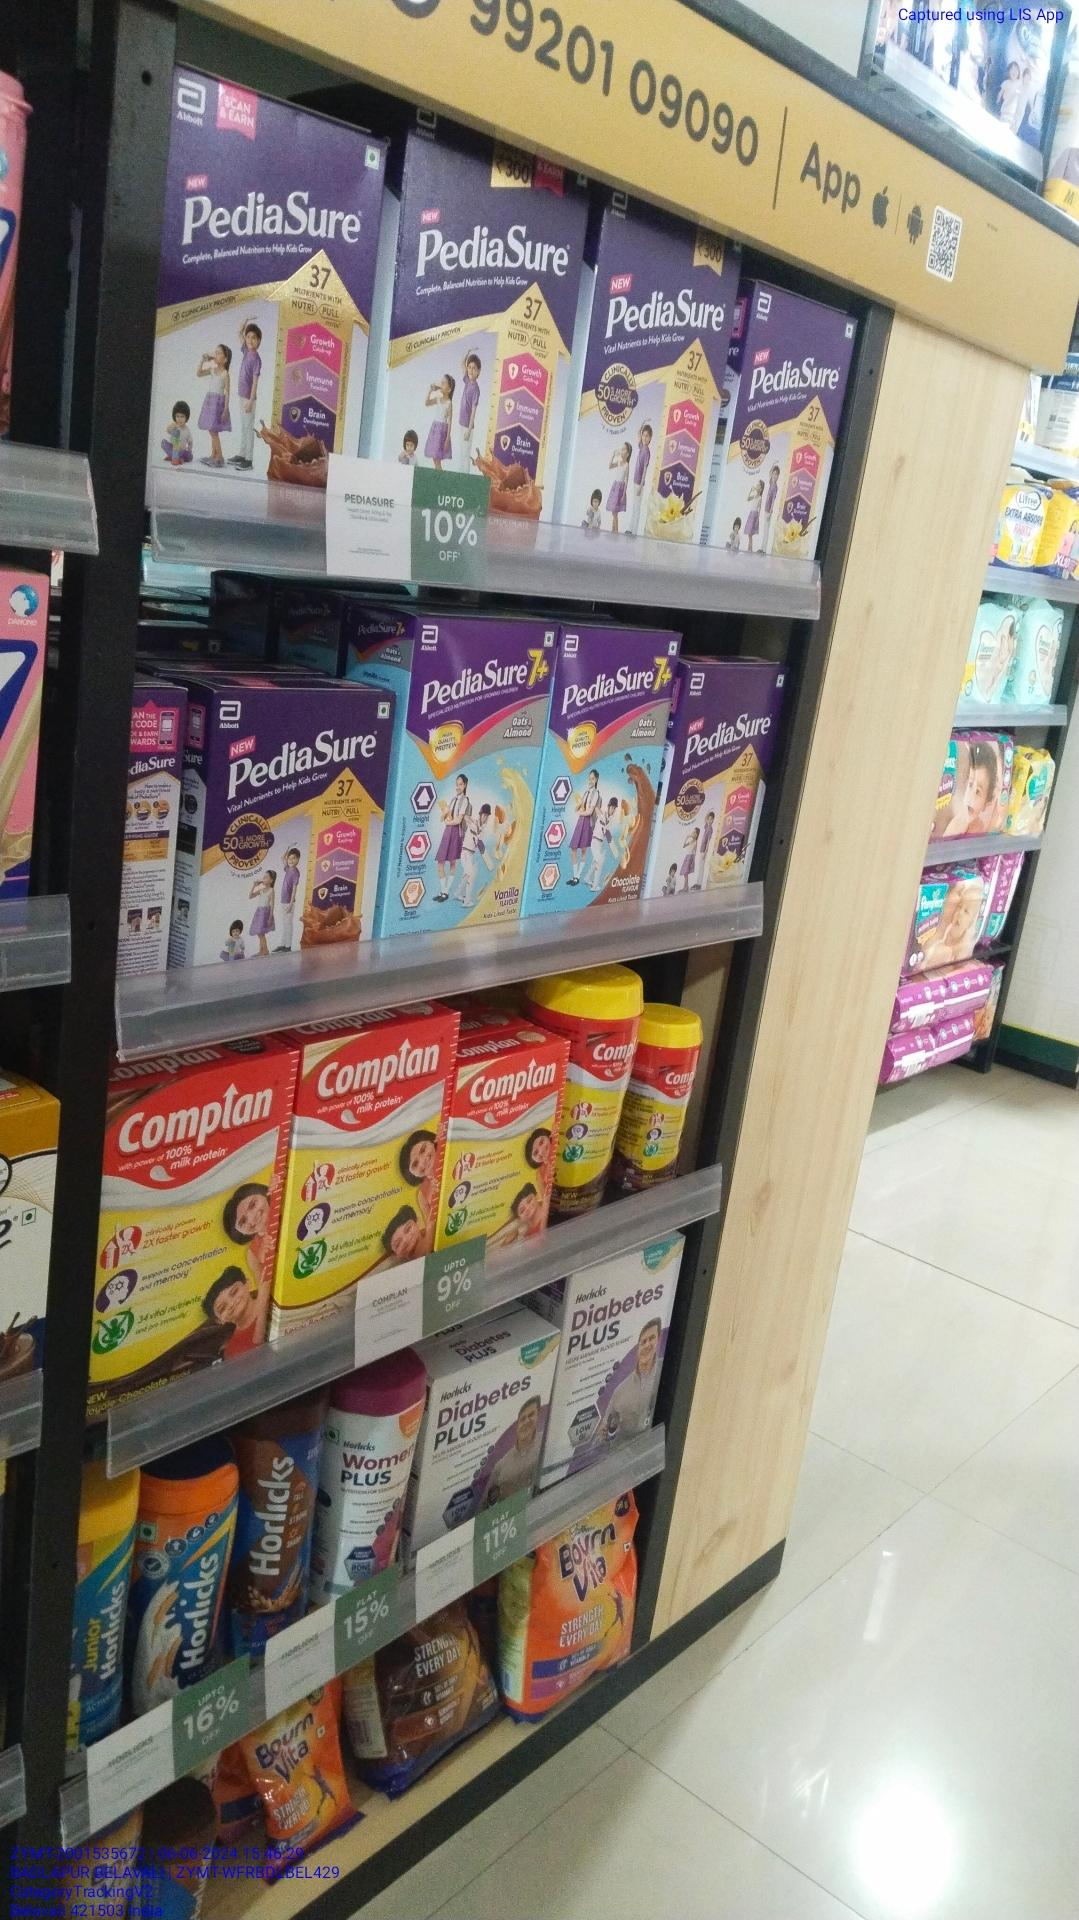BOURN_VITA_750_G_POUCH: (530, 1505, 644, 1700)
COMPLAN_CHOCOLATE_200_GMS_JAR: (638, 1002, 695, 1197)
COMPLAN_CHOCOLATE_500_GMS_JAR: (557, 967, 634, 1213)
HORLICKS_JUNIOR_VANILLA_500_GM_JAR: (75, 1461, 129, 1739)
HORLICK_CHOCOLATE_500_G_JAR: (237, 1404, 314, 1638)
HORLICK_CLASSIC_MALT_500_G_JAR: (133, 1457, 231, 1696)
PEDIASURE_CHOCOLATE_500_G_PACK: (207, 690, 386, 940)
PEDIASURE_VANILLA_500_G_PACK: (665, 654, 774, 894)
